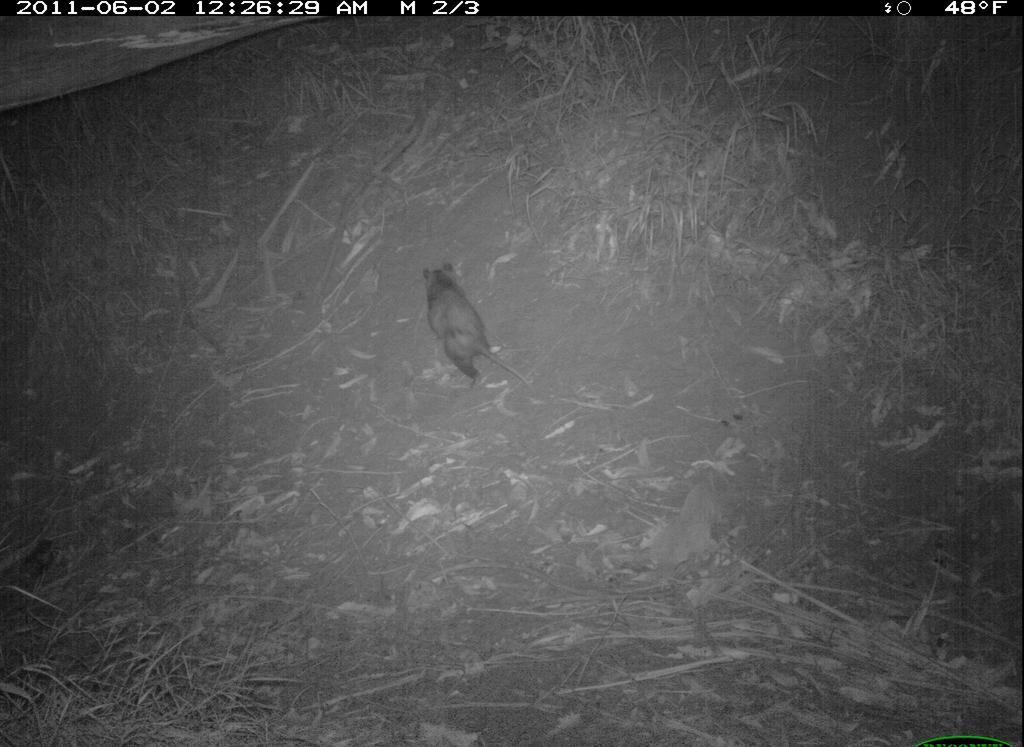opossum: (395, 242, 556, 434)
